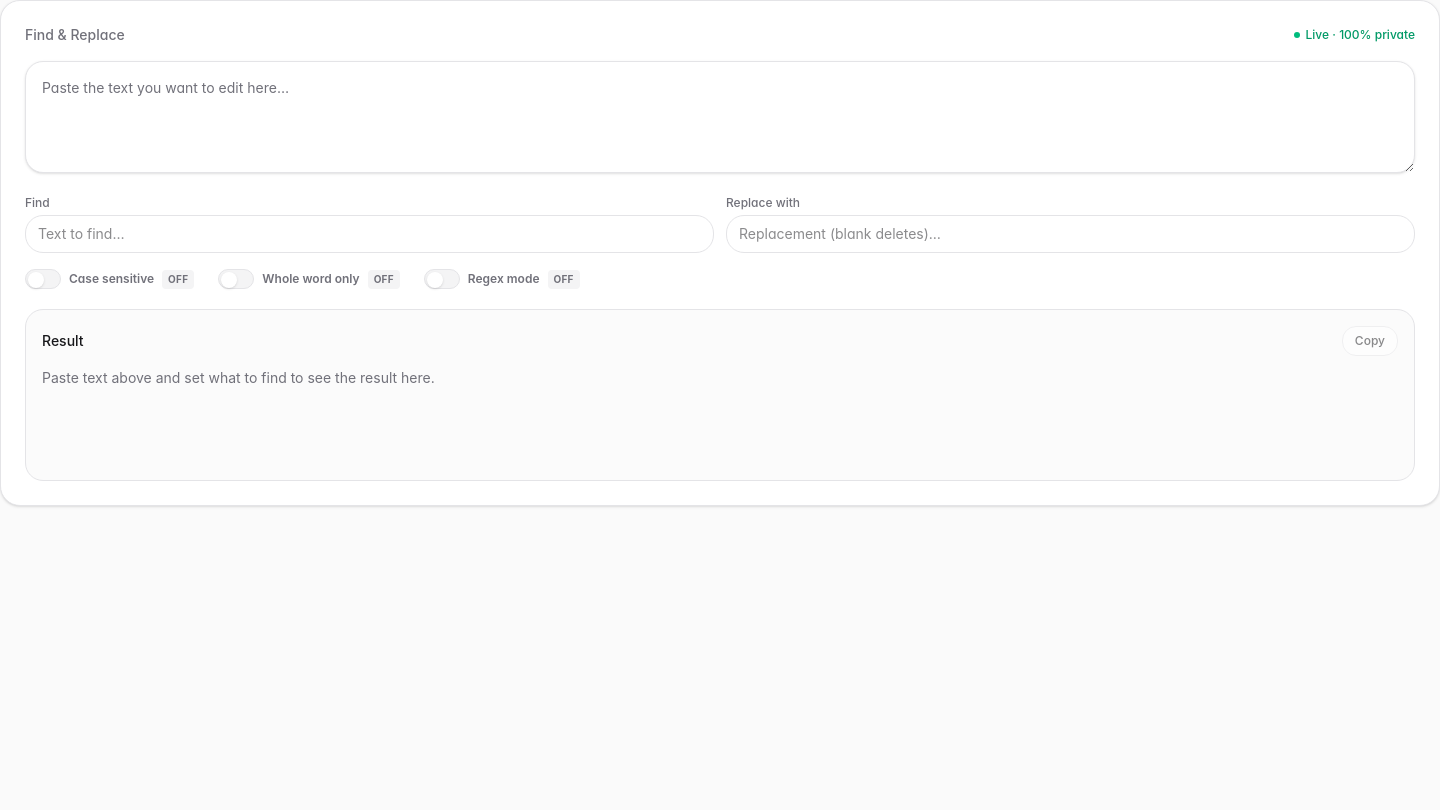
Test: Find & Replace UI toggles › whole-word toggle only replaces whole words
Type "cat catalog" into the text box named "Text to edit".
click(720, 117); type("cat catalog")  # box [25,61,1415,173]
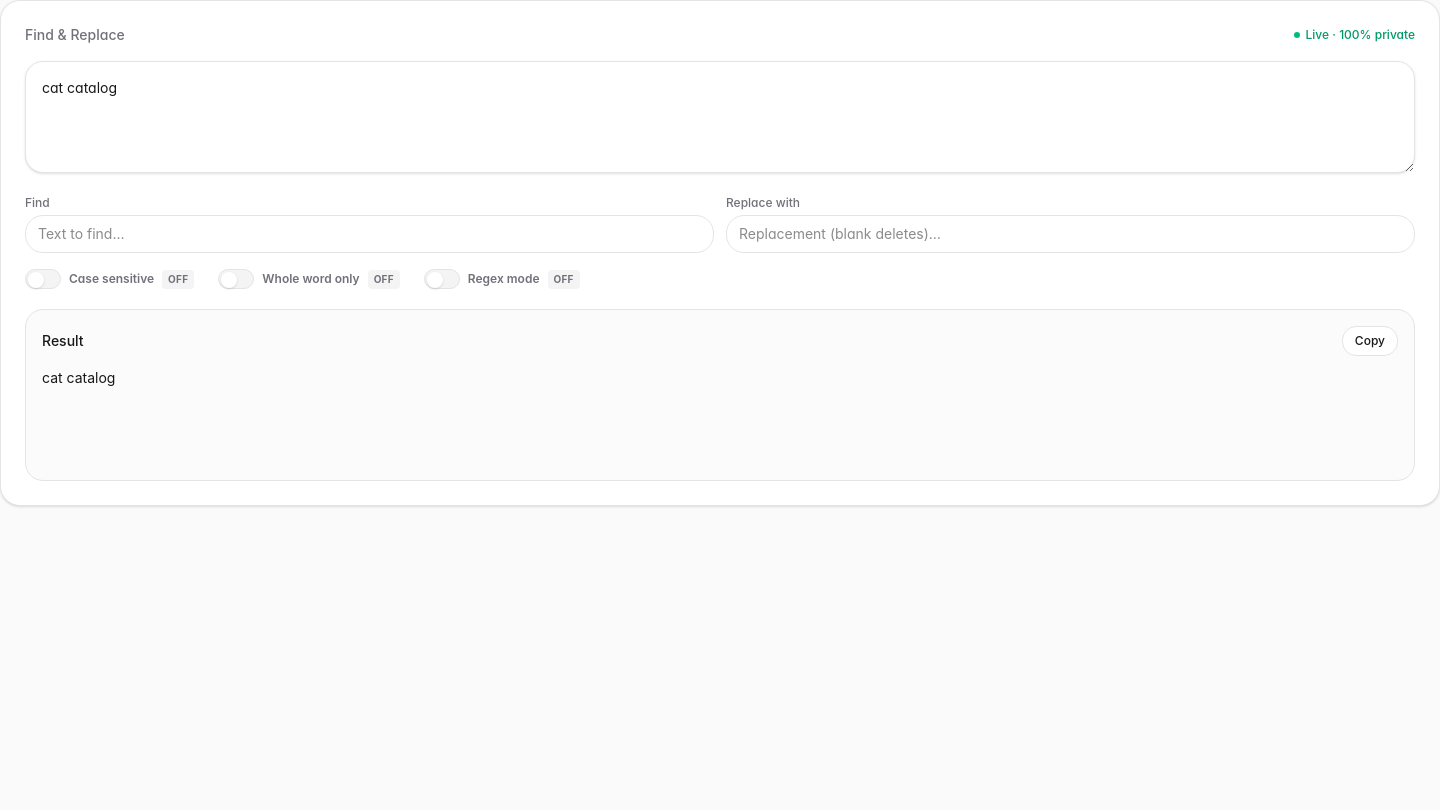
Type "cat" into the field with placeholder "Text to find…".
click(370, 234); type("cat")  # box [25,215,714,253]
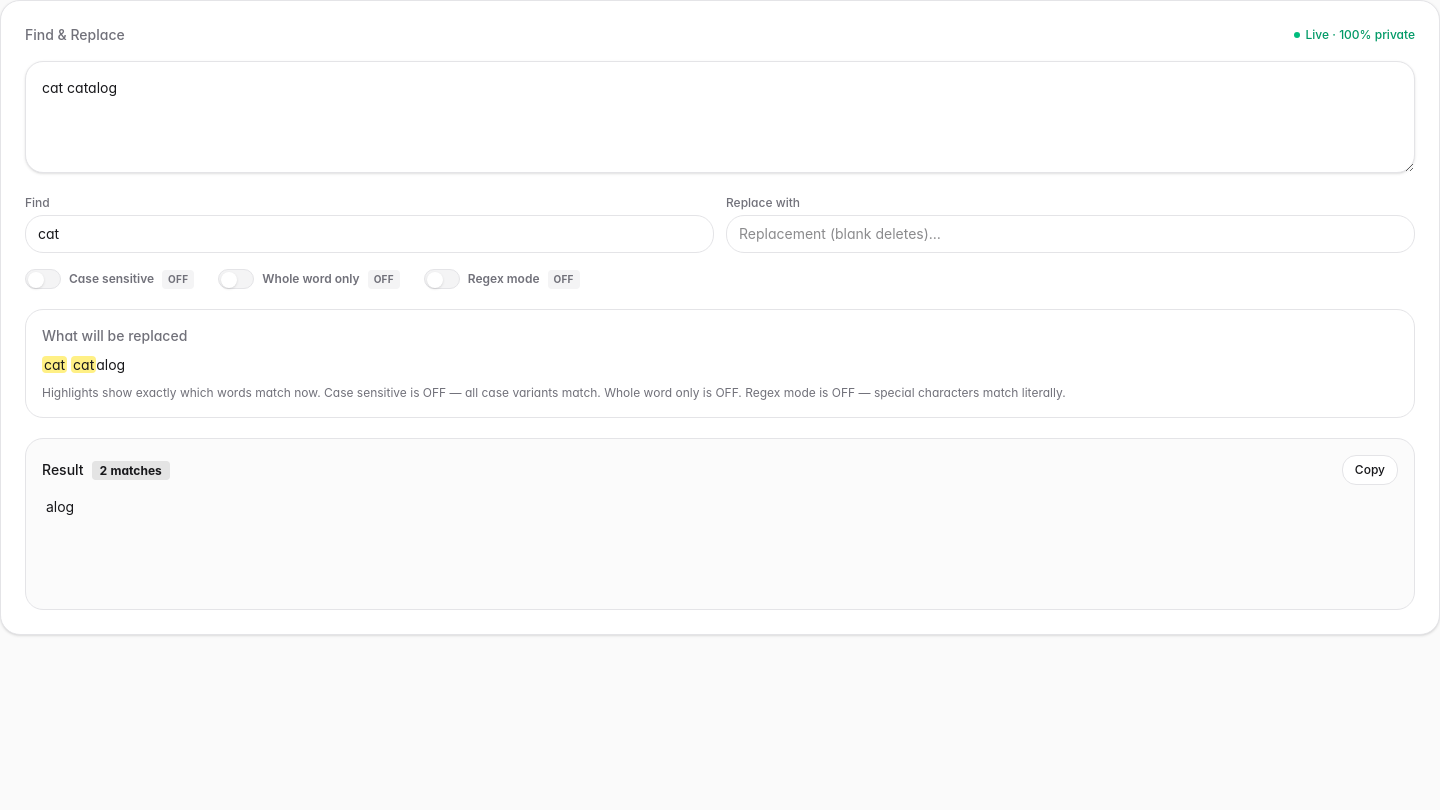
Type "dog" into the field with placeholder "Replacement (blank deletes)…".
click(1070, 234); type("dog")  # box [726,215,1415,253]
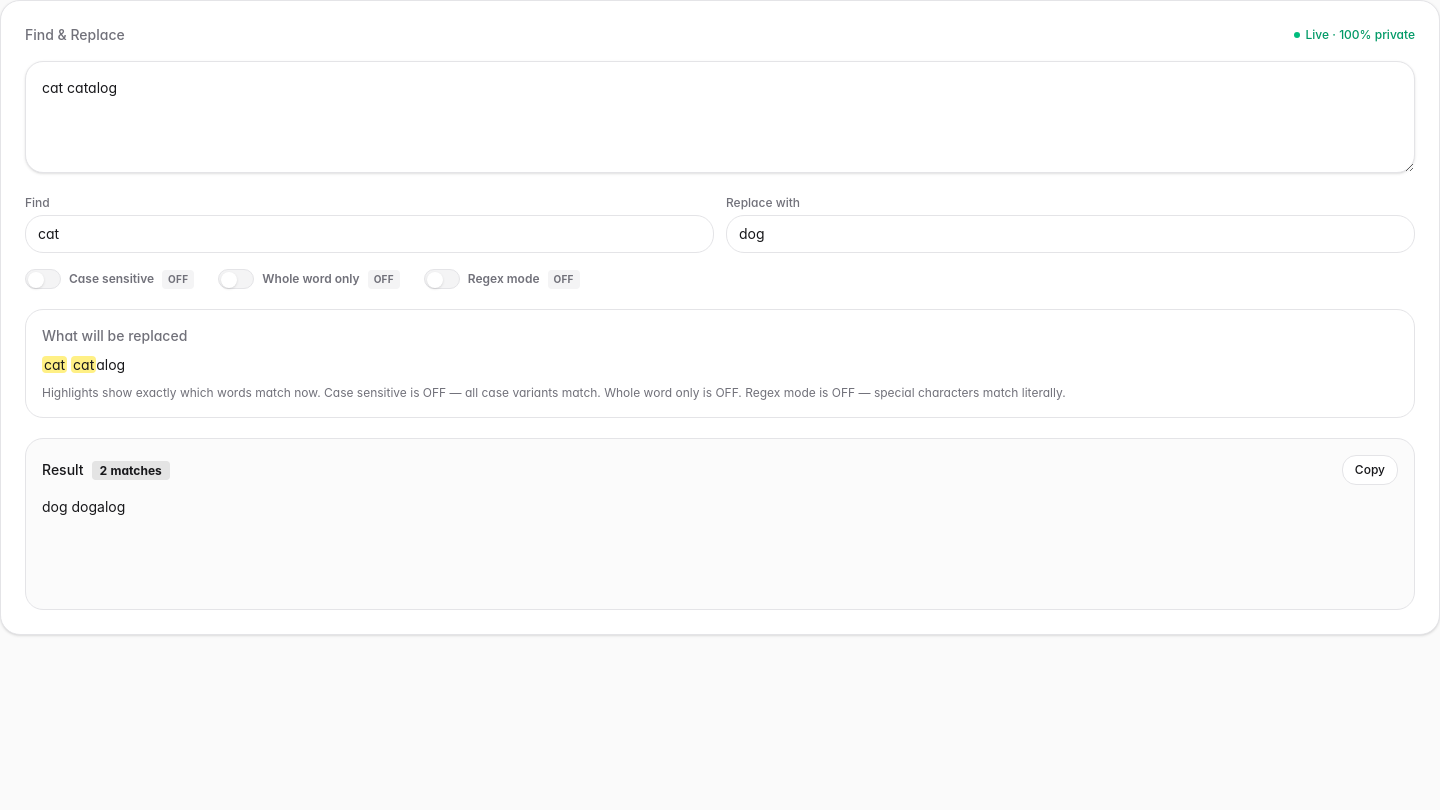
Click the switch labelled "Whole word only Off".
click(309, 279)  # box [218,269,400,289]
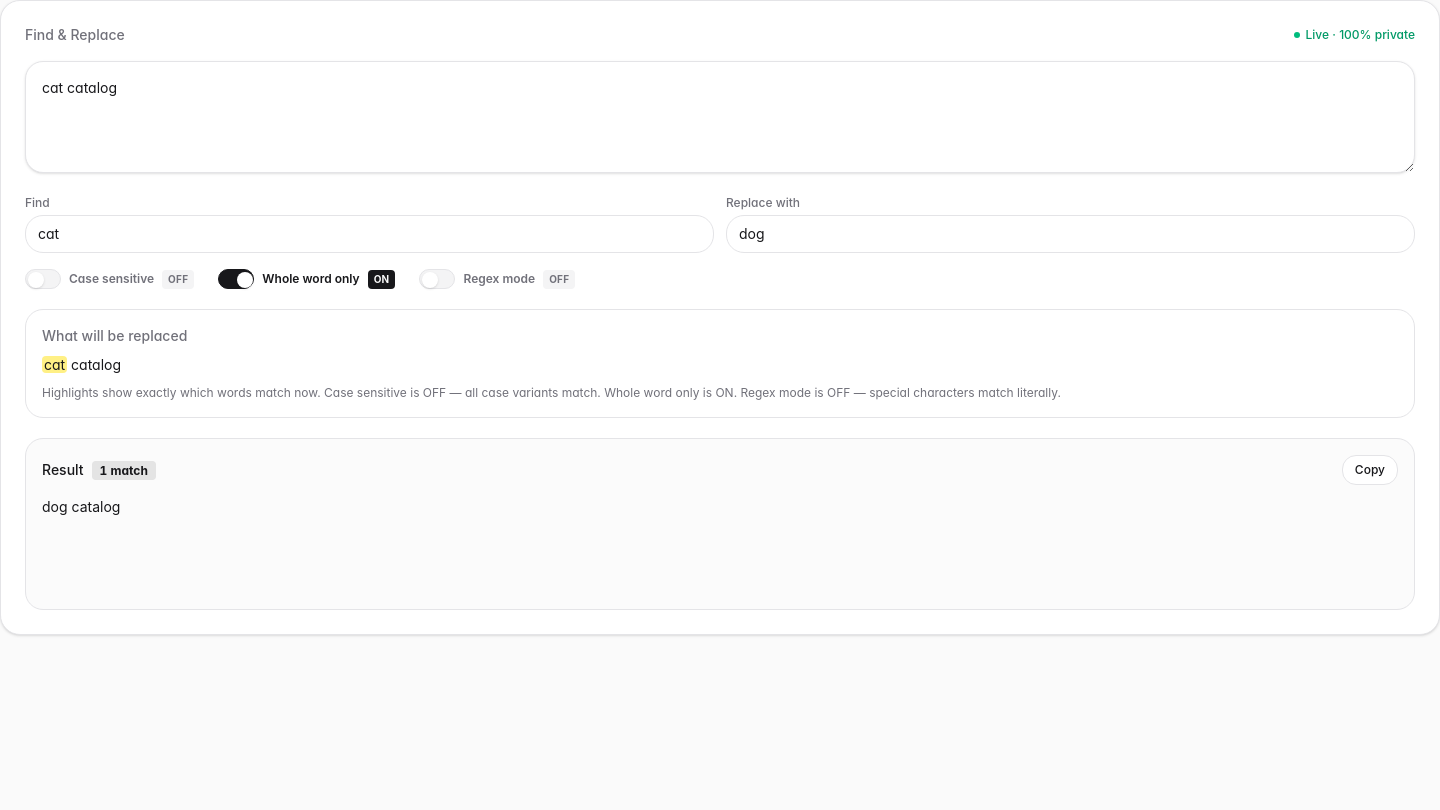
Result: the text "dog catalog" is shown at [42,498,120,515]
Result: the text "dog dogalog" is gone
